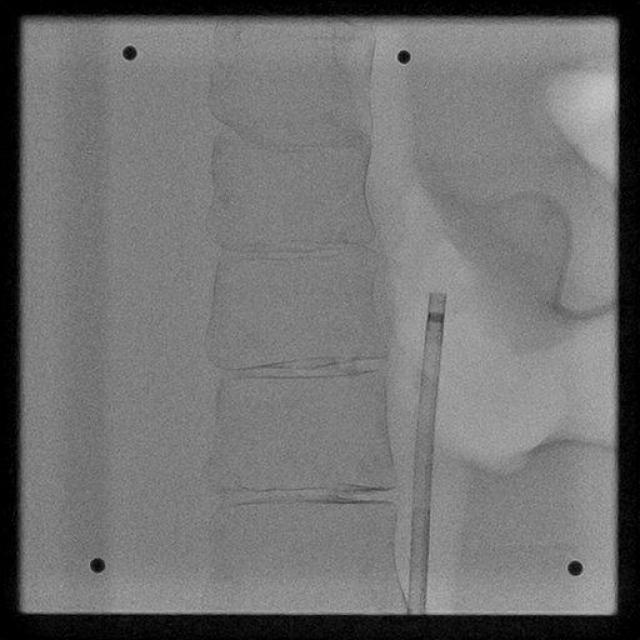bend: (414, 494, 431, 506)
entry: (408, 608, 427, 614)
marker: (426, 312, 444, 323)
tip: (429, 290, 447, 298)
